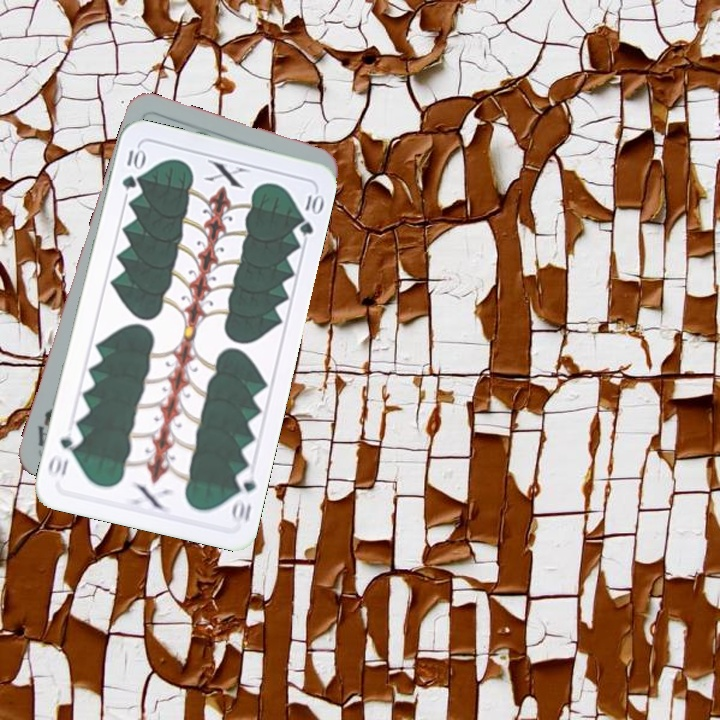G10: (227, 465, 259, 526), (118, 143, 146, 193)
